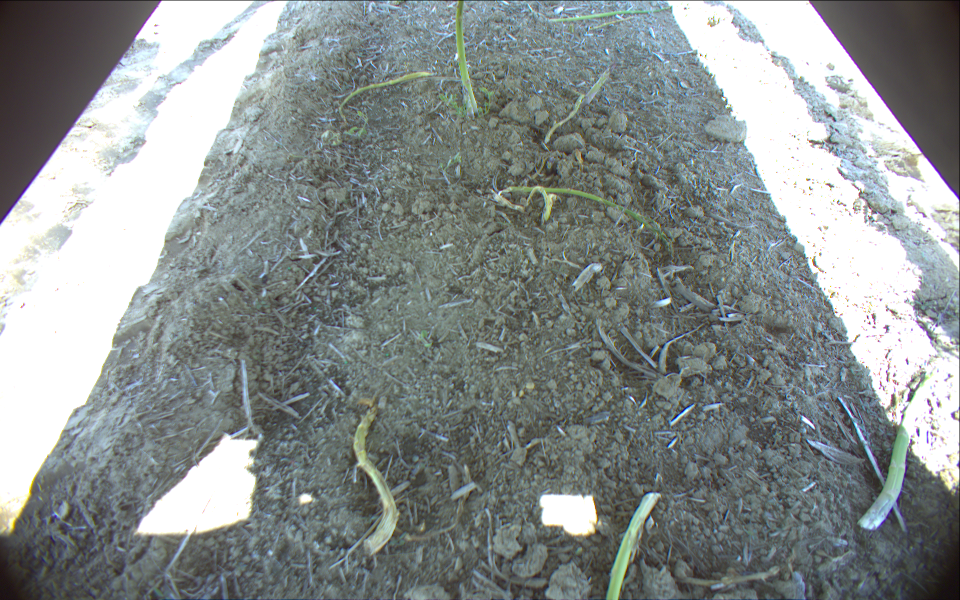aspa: (857, 369, 941, 530), (501, 188, 676, 254), (353, 406, 397, 555), (603, 492, 662, 600), (339, 69, 436, 122), (454, 1, 481, 114), (493, 185, 552, 228), (542, 92, 583, 148), (545, 5, 673, 22), (583, 69, 613, 105), (462, 84, 474, 119)
